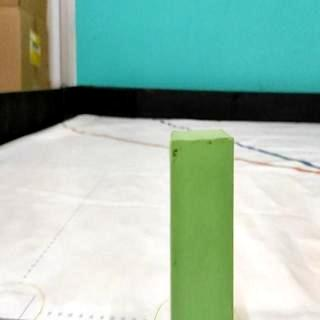greenbox: (170, 129, 234, 320)
